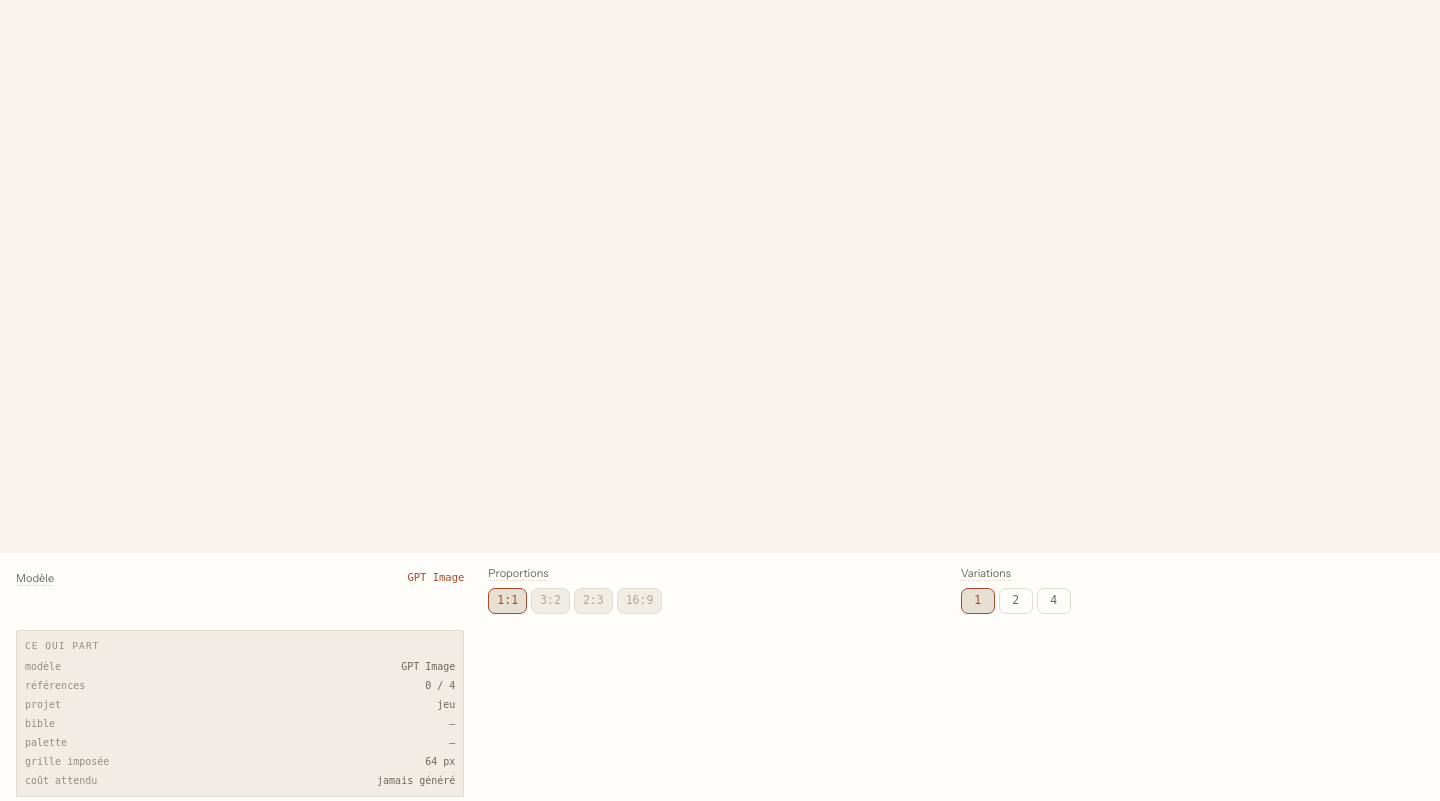
Test case: les styles locaux sont groupés par moteur, repliés, avec leur état et leur temps
The image size is (1440, 801).
(page scrolled)
Click the button "Modèle GPT Image": (35, 578) x1=12 y1=565 x2=468 y2=591
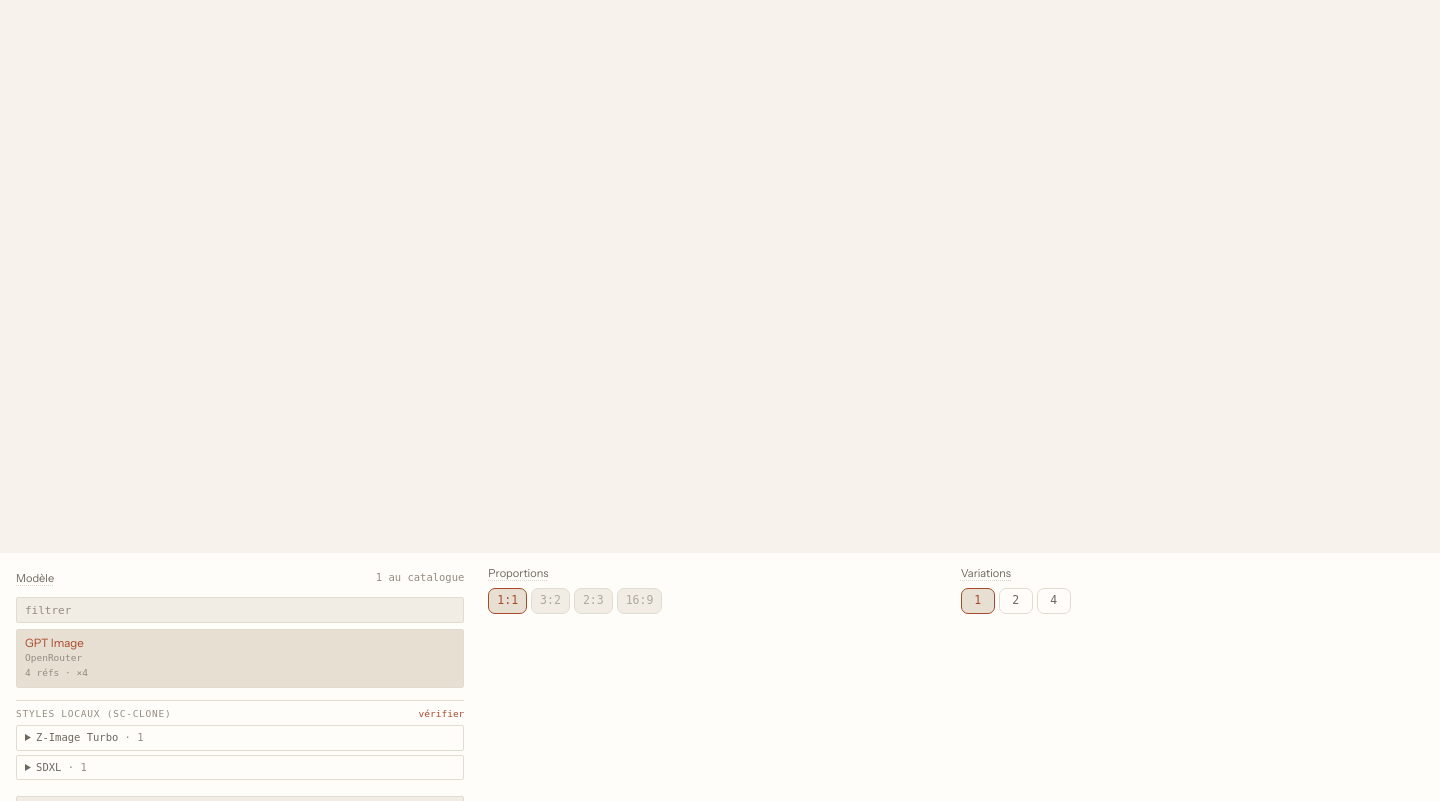
Check: the text "styles locaux (sc-clone)" is shown, box x1=16 y1=706 x2=172 y2=721
Click the heading "Z-Image Turbo · 1": (90, 737) x1=36 y1=731 x2=144 y2=743
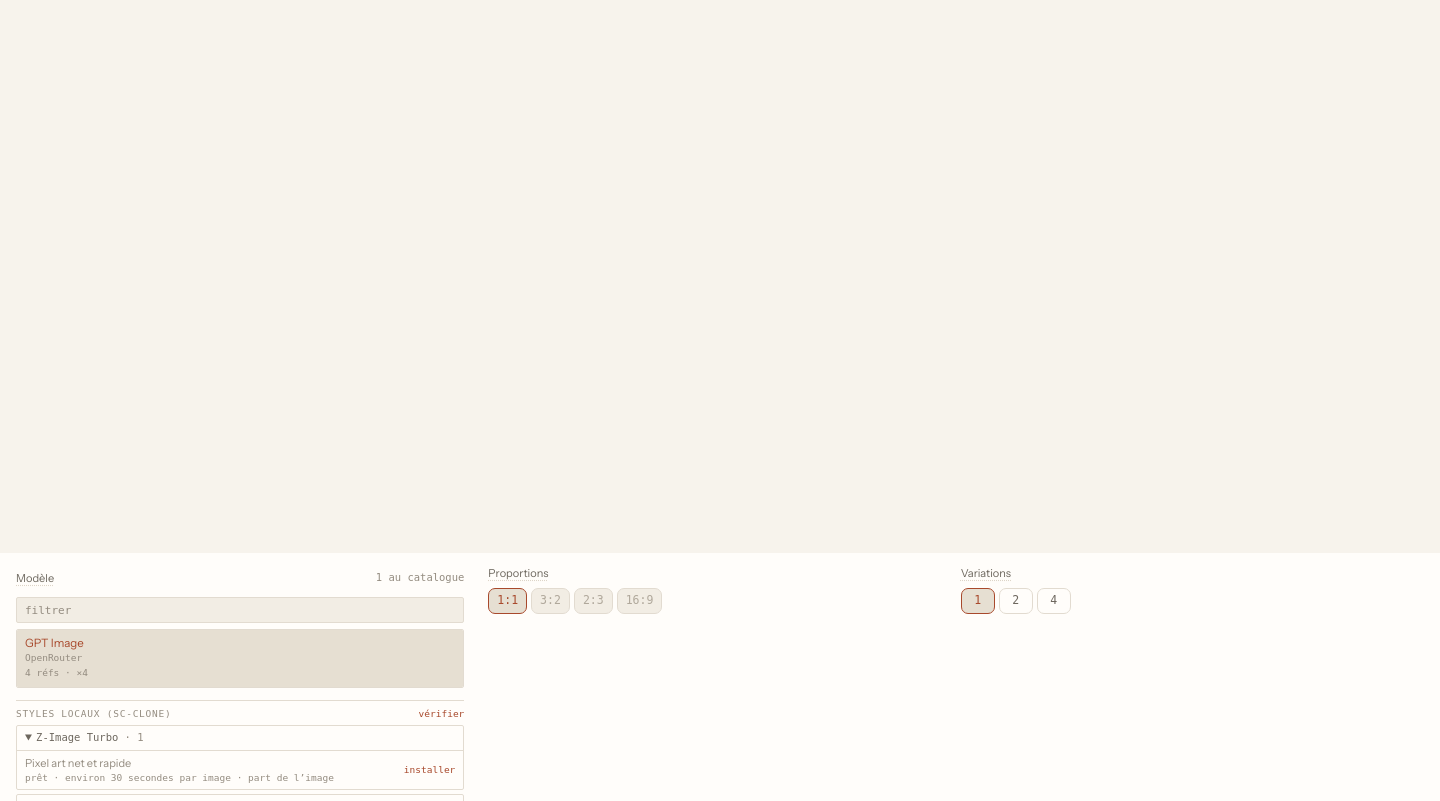
Check: the list item "Pixel art net et rapide" shows "prêt", box x1=25 y1=772 x2=48 y2=783
Check: the list item "Pixel art net et rapide" shows "environ 30 secondes par image", box x1=65 y1=772 x2=231 y2=783
Check: the list item "Pixel art net et rapide" shows "installer", box x1=404 y1=763 x2=455 y2=777
